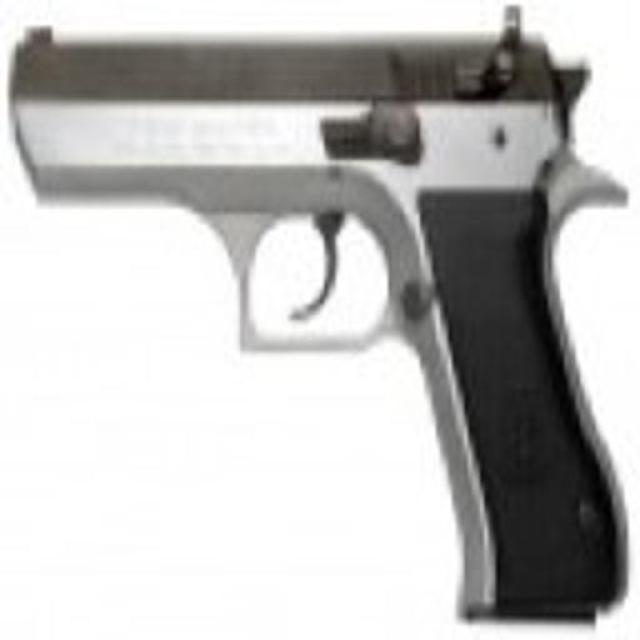pistol: (7, 10, 627, 634)
